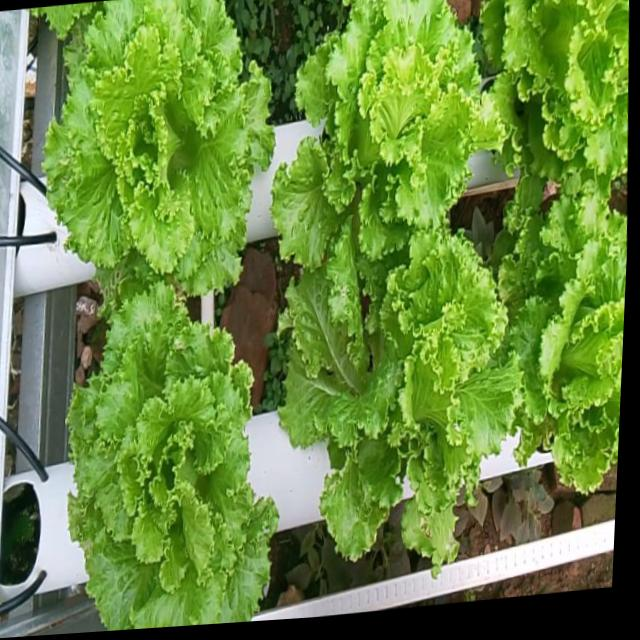Mature: (288, 235, 530, 575), (79, 285, 288, 630), (49, 0, 286, 300), (282, 0, 505, 293), (511, 207, 626, 507), (493, 0, 629, 207)
